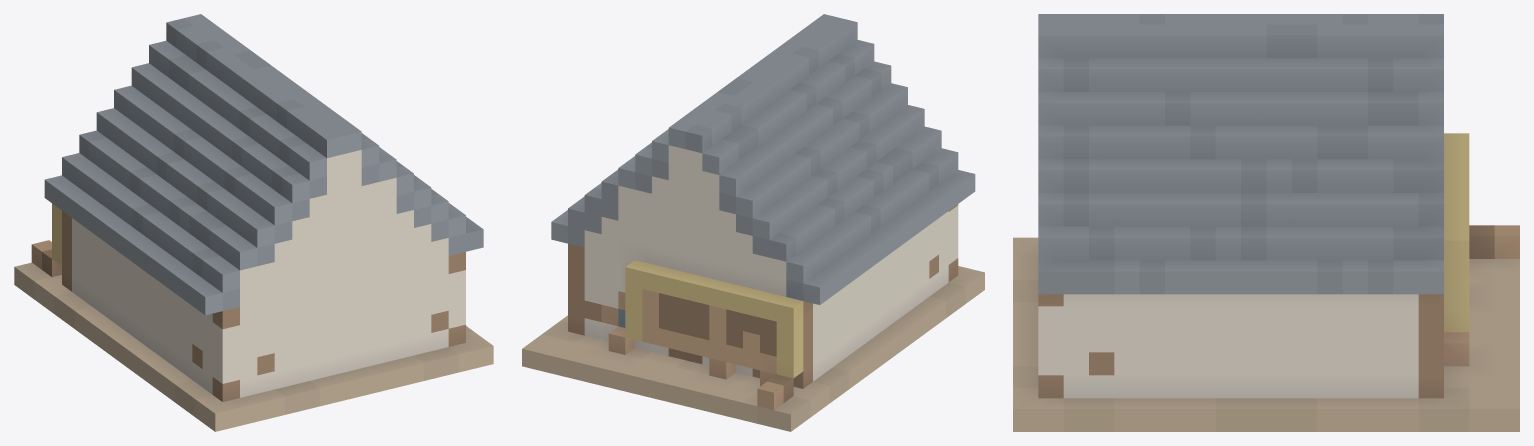
Rendered from vineyard.lite.glb.
The picture shows the model from 3 angles, left to right: view 1: azimuth 30°, elevation 25°; view 2: azimuth 150°, elevation 25°; view 3: azimuth 270°, elevation 25°; orthographic projection. The views are drawn at different scales.
Visible parts, largest first — view 1: vineyard; view 2: vineyard; view 3: vineyard.
Boxes of the visible parts, left/top/right/bottom form: vineyard: left=14, top=14, right=493, bottom=431; vineyard: left=522, top=14, right=984, bottom=431; vineyard: left=1013, top=14, right=1519, bottom=431.
Bounding box in the file's own units: 4 × 3.5 × 5.
